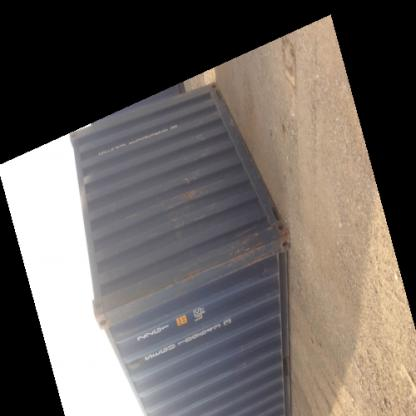Damage: (209, 221, 273, 267), (130, 264, 204, 298), (223, 338, 256, 404), (168, 162, 207, 206)
